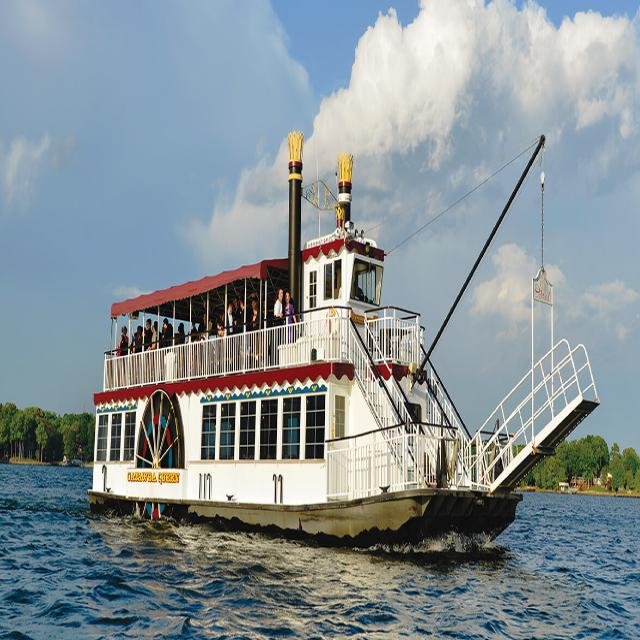houseboat: (98, 195, 592, 538)
